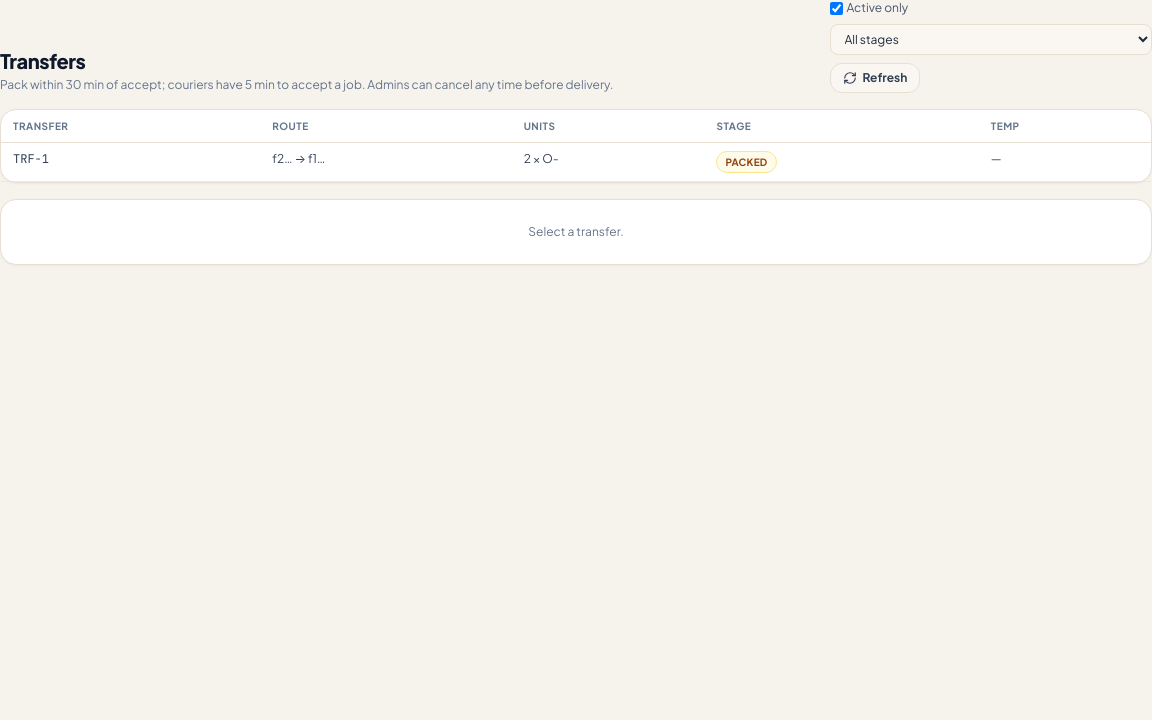
Test: TransfersPage › opens a transfer, assigns a courier and shows the audit tab
Click the text "TRF-1" at (31, 159), box [13,151,49,167]
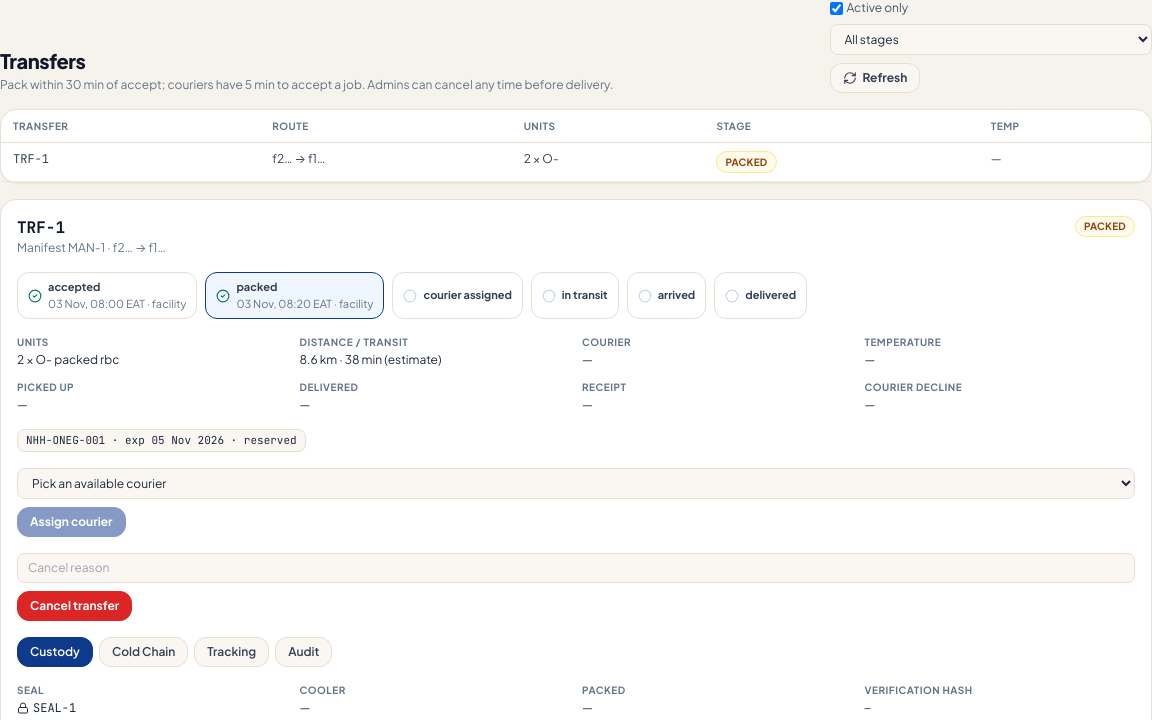
Expected: the list named "Stage history" is shown, [17,272,807,319]
Expected: the text "NHH-ONEG-001 · exp 05 Nov 2026 · reserved" is shown, [17,429,306,452]
Select "M. Wanjiku · boda · CB-2" in the dropdown named "Courier to assign" at (576, 483), box [17,468,1135,498]
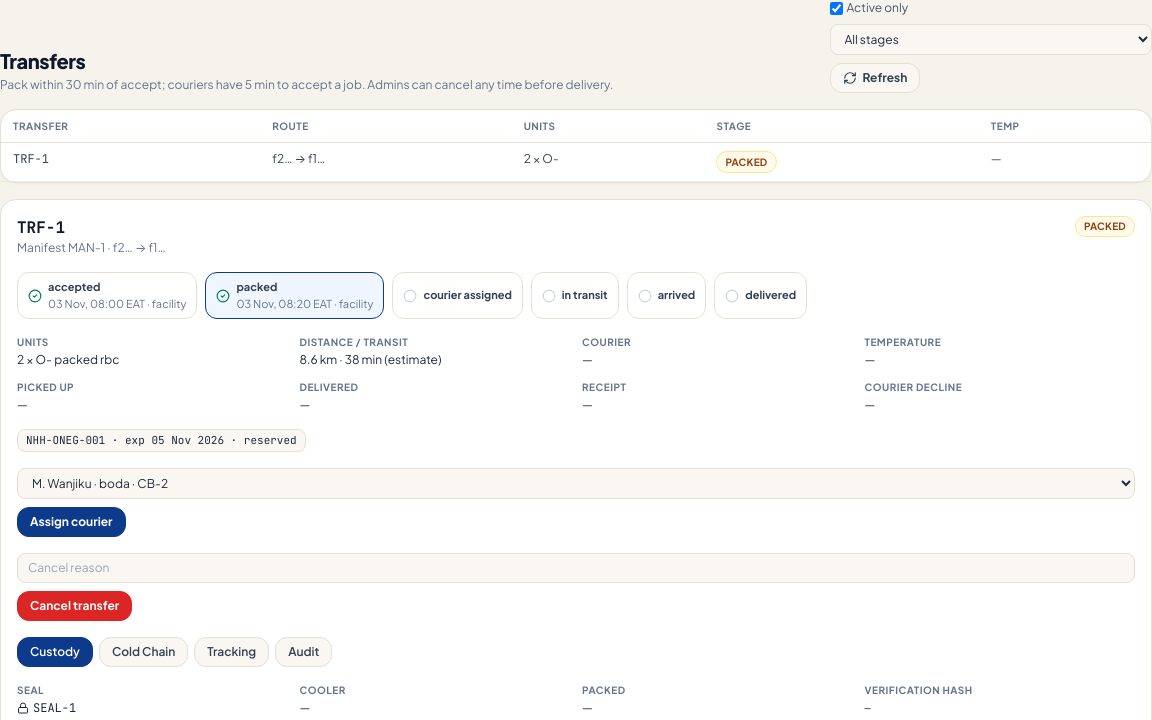
Click the button "Assign courier" at (71, 522), box [17,506,126,536]
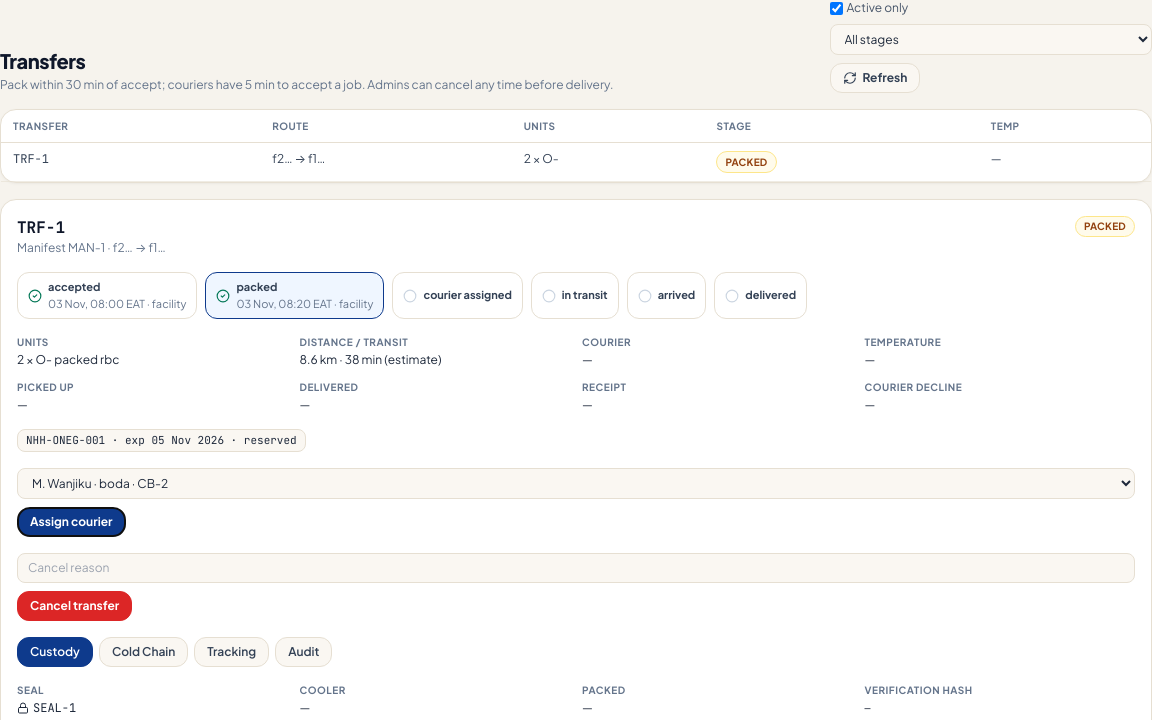
Click the tab "audit" at (304, 652), box [275,636,332,666]
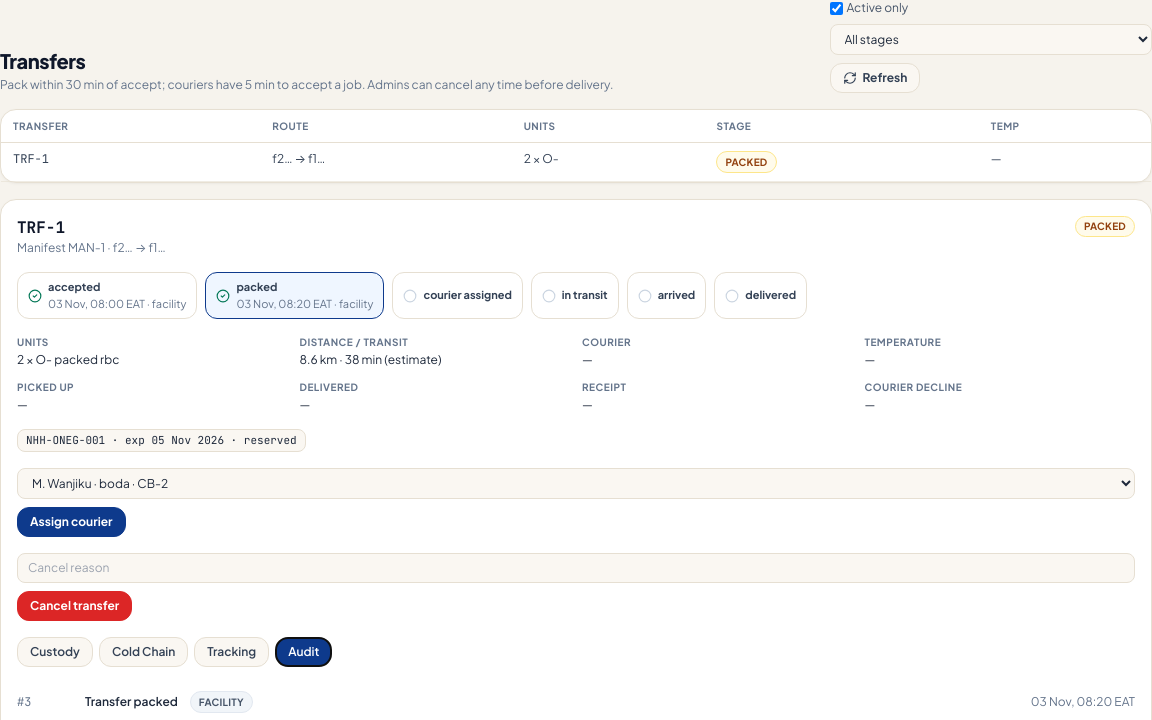
Expected: the text "Transfer packed" is shown, [85,694,178,710]
